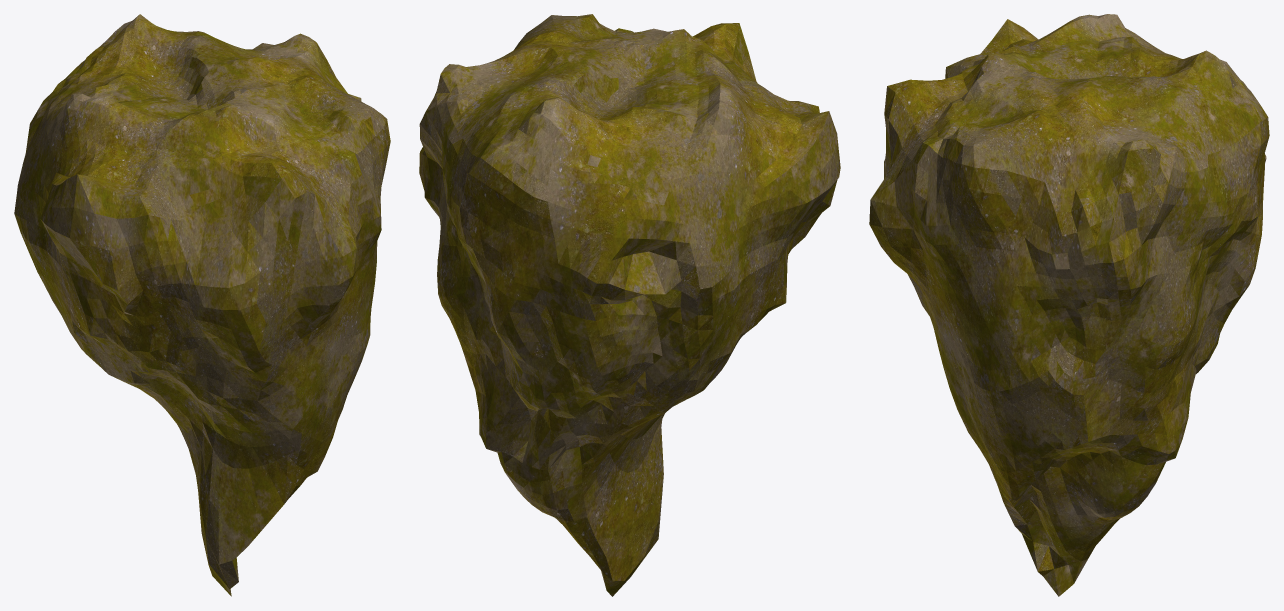
Rendered from floating_rock_1.glb.
The picture shows the model from 3 angles, left to right: view 1: azimuth 30°, elevation 25°; view 2: azimuth 150°, elevation 25°; view 3: azimuth 270°, elevation 25°; orthographic projection. The views are drawn at different scales.
Visible parts, largest first — view 1: Floating rock 1.001; view 2: Floating rock 1.001; view 3: Floating rock 1.001.
Boxes of the visible parts, left/top/right/bottom form: Floating rock 1.001: left=14, top=14, right=390, bottom=596; Floating rock 1.001: left=419, top=14, right=840, bottom=596; Floating rock 1.001: left=869, top=14, right=1269, bottom=596.
Size of the model in its own units: 5.46 by 8.05 by 5.45.
Materials: 1 (1 with a texture image).
